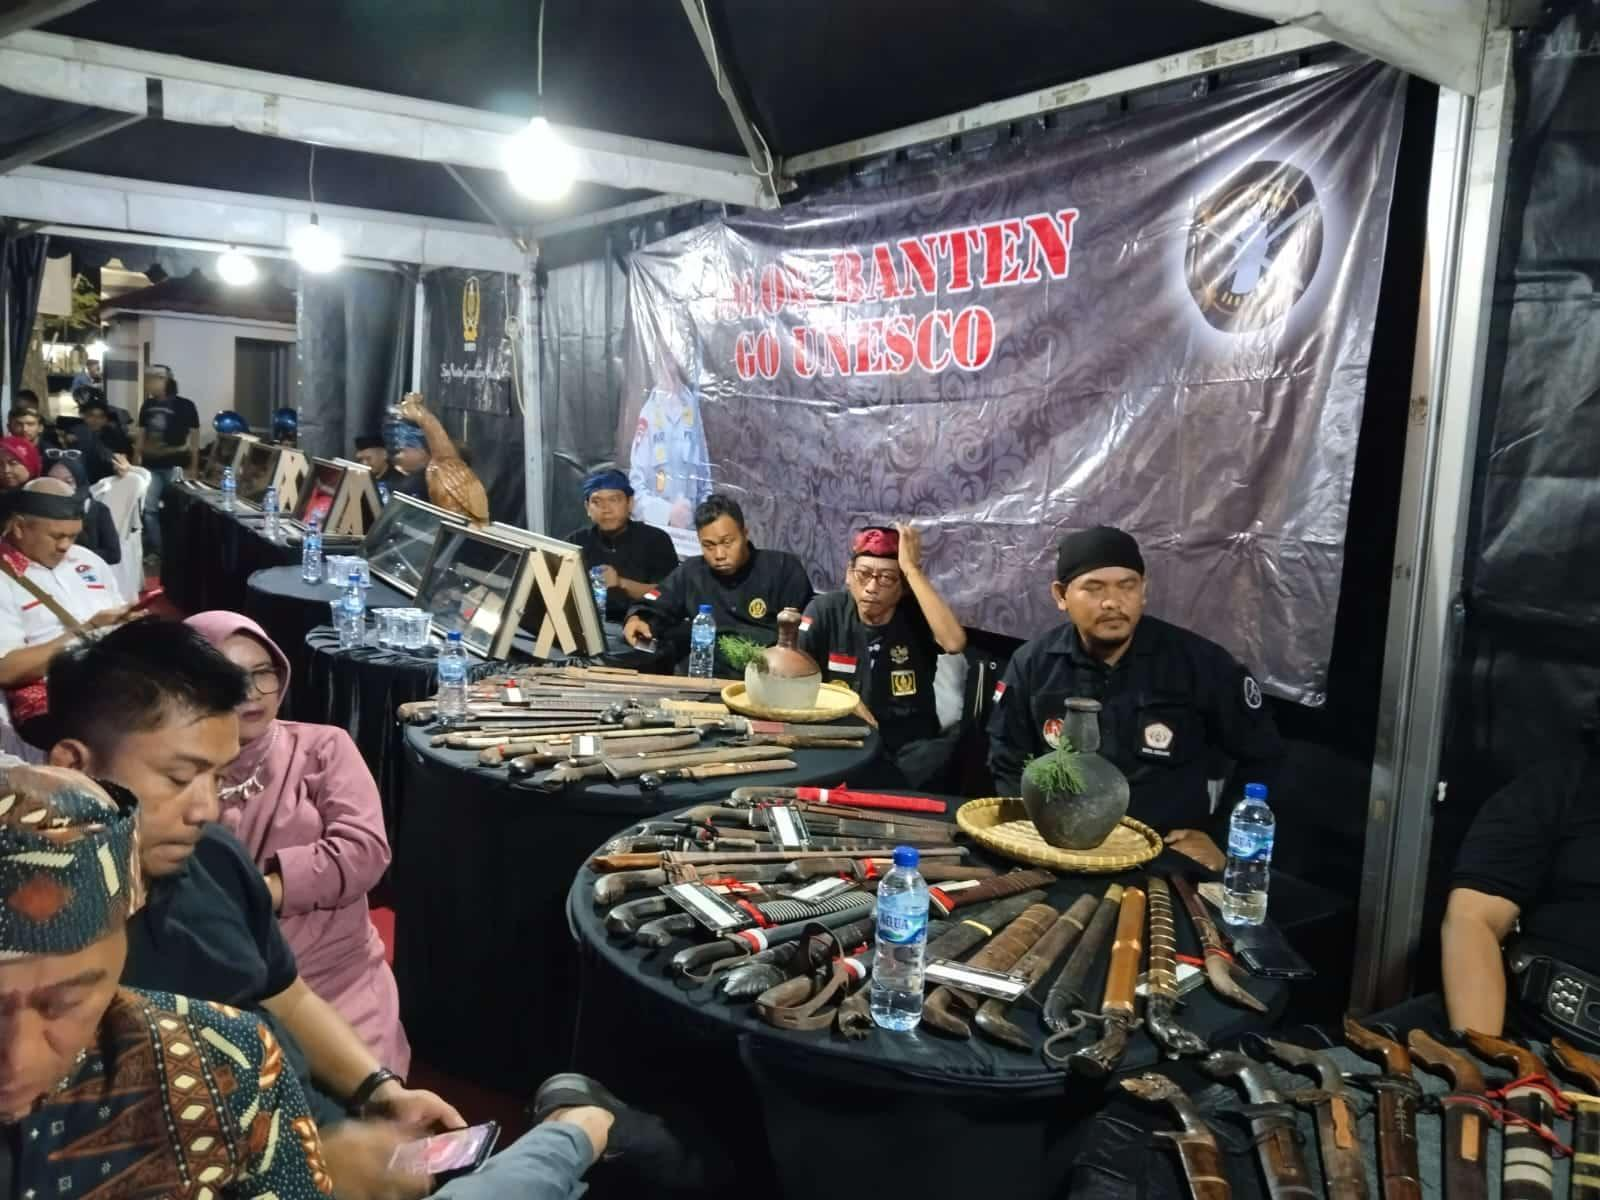espada: (668, 881, 979, 983)
facao: (821, 890, 1046, 1036), (600, 866, 985, 939), (585, 852, 965, 909), (916, 895, 1062, 1037), (976, 889, 1096, 1050), (716, 906, 917, 1000), (635, 891, 866, 958), (1034, 874, 1128, 1037), (1177, 874, 1267, 1012), (678, 795, 955, 841), (1296, 1041, 1373, 1197), (1139, 874, 1202, 1059), (1089, 881, 1146, 1063), (1361, 1027, 1422, 1197), (1425, 1040, 1490, 1196), (1241, 1047, 1308, 1200), (1492, 1036, 1551, 1200), (590, 846, 966, 868), (1550, 1034, 1600, 1200), (632, 822, 959, 847), (1159, 1082, 1228, 1200), (732, 787, 949, 813), (632, 837, 968, 852), (777, 860, 986, 884)
